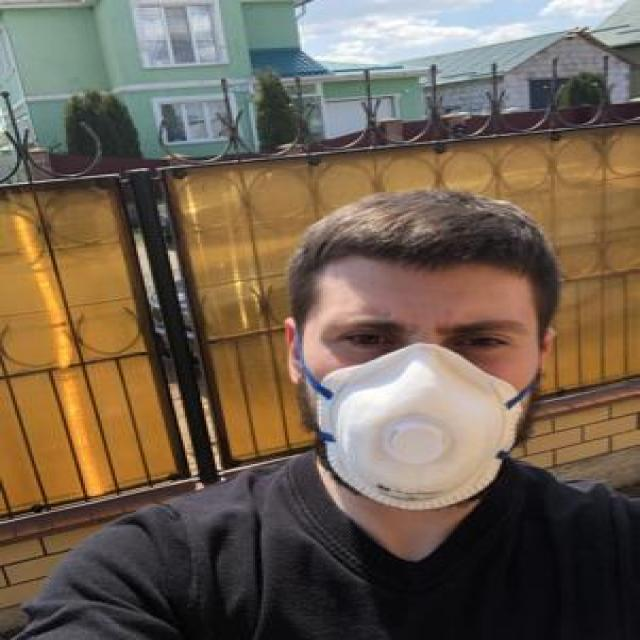with_mask: (303, 289, 539, 513)
